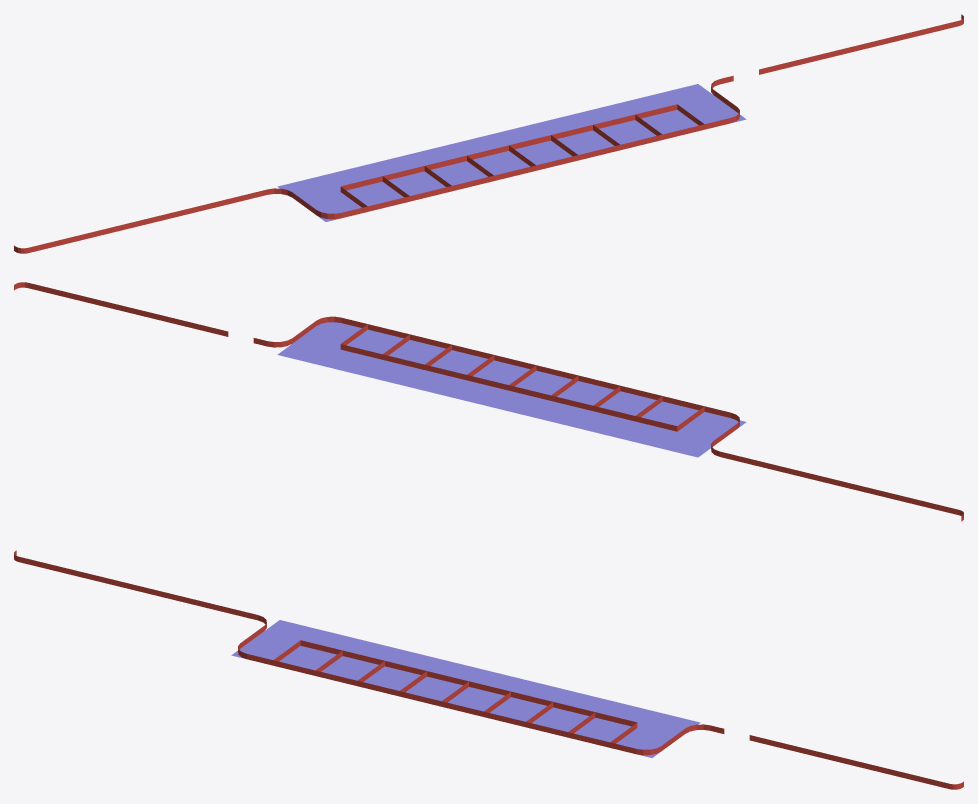
The model's file is Pitstops.glb.
3 renders of one model, top to bottom at view 1: azimuth 30°, elevation 25°; view 2: azimuth 150°, elevation 25°; view 3: azimuth 330°, elevation 25°, orthographic.
Parts seen in each view (by area): view 1: Plane.057; view 2: Plane.057; view 3: Plane.057.
Boxes of the visible parts, x1,y1,x2,y2 form: Plane.057: (14, 14, 963, 253); Plane.057: (14, 282, 963, 521); Plane.057: (14, 550, 963, 789).
Size of what is drawn, in the model's own units: 180 by 1 by 16.
